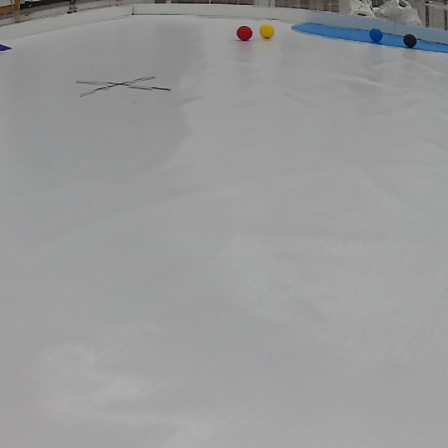black: (401, 31, 418, 48)
blue: (366, 29, 388, 46)
blue_base: (290, 22, 448, 58)
red: (239, 25, 252, 40)
yellow: (260, 23, 277, 38)
